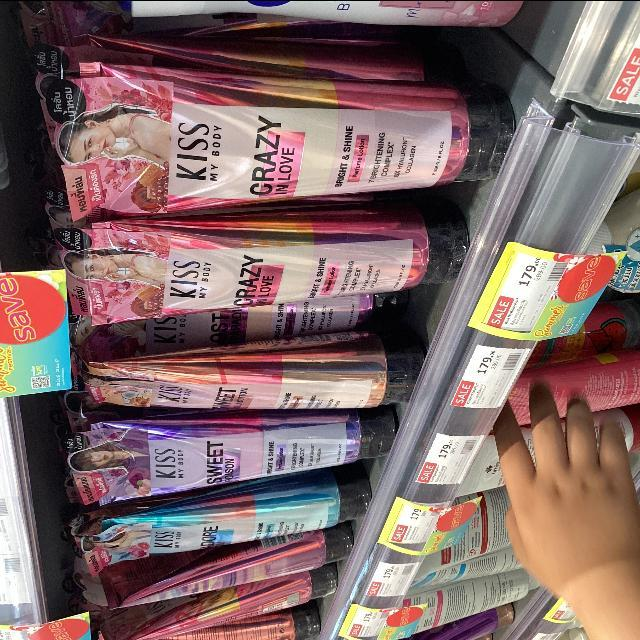Squeeze Tube: (31, 1, 408, 640)
